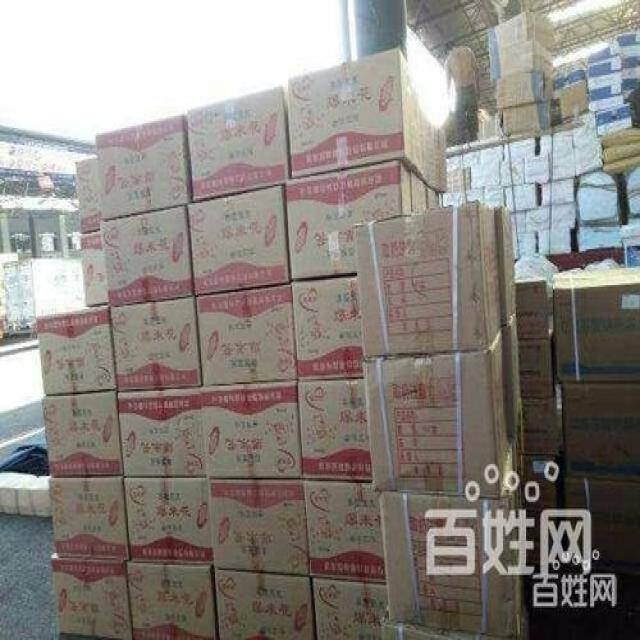box: (380, 442, 522, 635), (364, 328, 511, 498), (355, 201, 502, 358), (288, 48, 424, 177), (285, 162, 412, 278), (188, 184, 291, 297), (187, 87, 289, 200), (96, 111, 193, 218), (197, 285, 297, 386), (201, 379, 303, 478), (207, 480, 310, 577), (99, 207, 195, 309), (553, 270, 640, 382), (110, 295, 201, 393), (303, 481, 387, 584), (297, 377, 374, 481), (118, 386, 206, 476), (123, 476, 211, 565), (562, 384, 640, 481), (293, 276, 365, 381), (36, 305, 118, 396), (41, 389, 123, 478), (51, 551, 132, 638), (127, 561, 216, 638), (215, 572, 314, 640), (50, 476, 129, 560), (312, 577, 393, 638), (488, 10, 557, 55), (490, 43, 553, 84), (497, 207, 516, 326), (518, 336, 553, 399), (78, 234, 108, 305), (522, 398, 558, 457), (74, 157, 102, 232), (515, 280, 549, 341), (497, 73, 553, 108), (422, 118, 447, 193), (503, 102, 550, 135), (412, 172, 428, 213)
